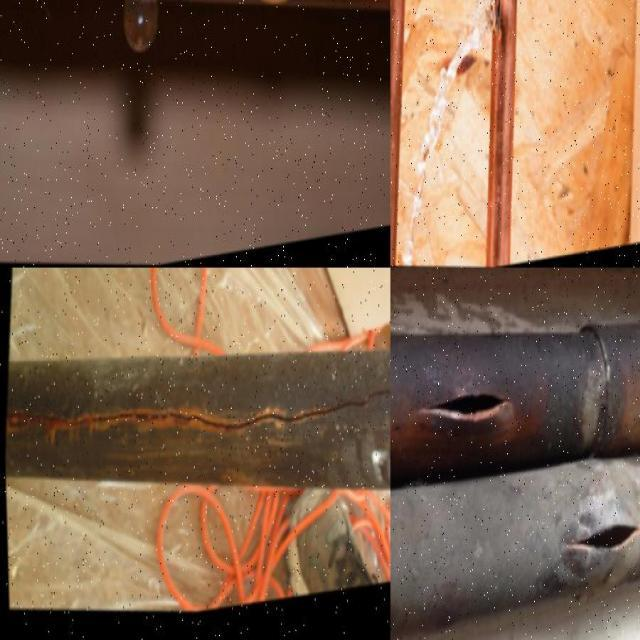crack: (8, 394, 390, 441)
rupture: (417, 389, 510, 433), (559, 528, 639, 569), (484, 1, 503, 53)
